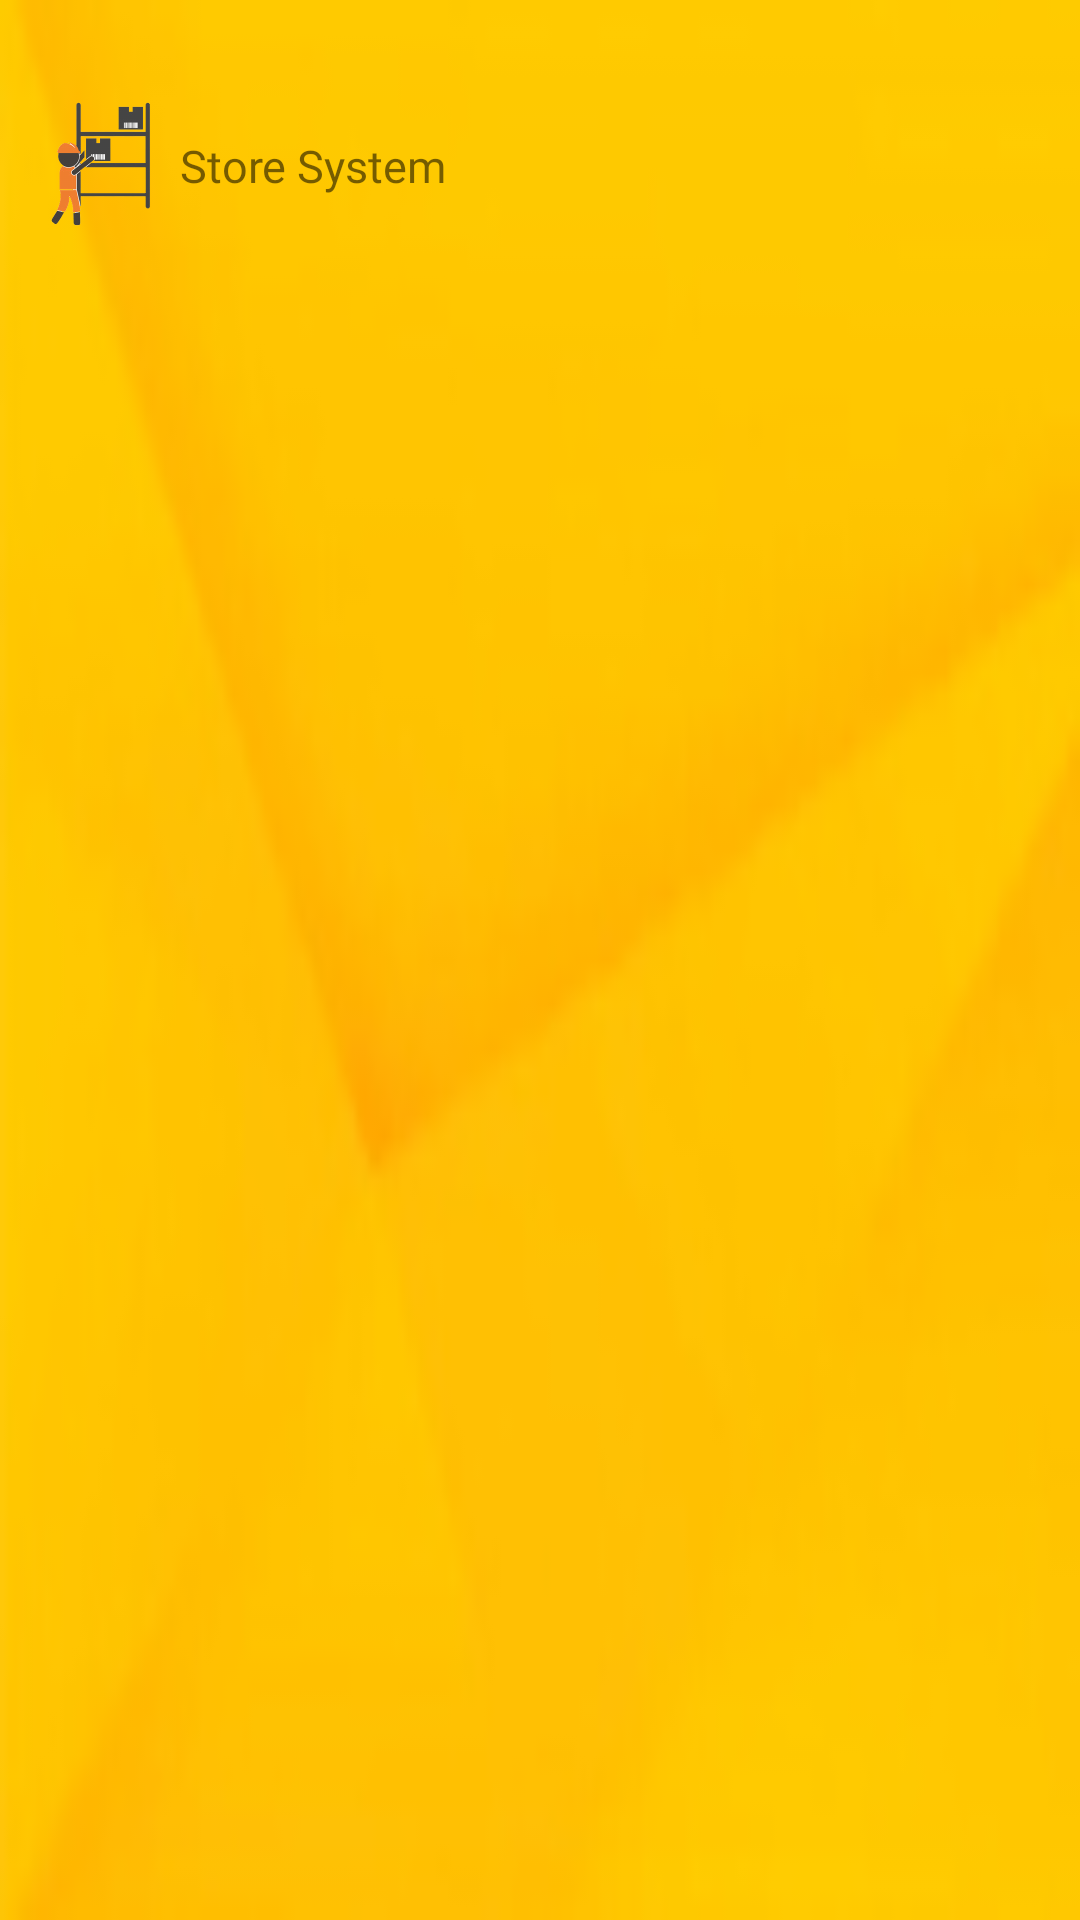

Point at icon controls on the screen. Image size 1080w x 1920h, points as point (x, y).
picking: point (100, 163)
